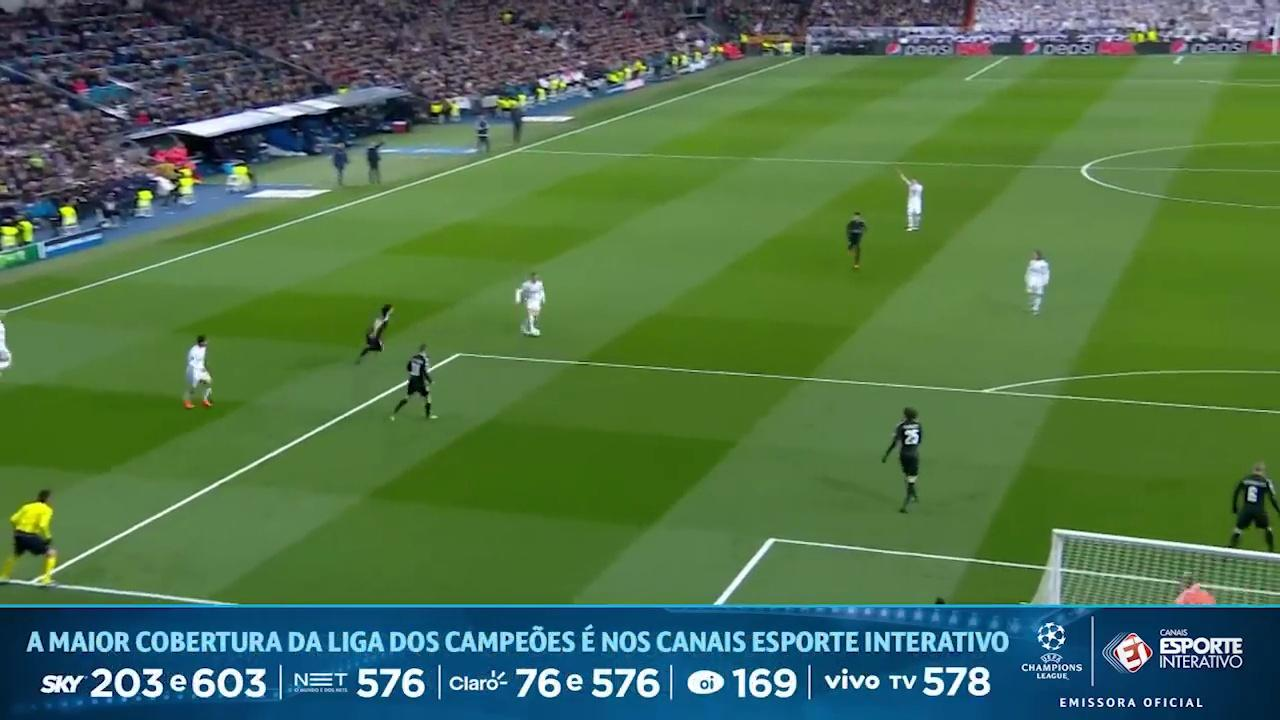player: (1229, 463, 1279, 551), (882, 407, 922, 512), (391, 344, 436, 418), (356, 304, 393, 363), (183, 335, 211, 408), (516, 273, 545, 336), (1024, 250, 1050, 314), (898, 170, 923, 231), (1174, 576, 1215, 604), (846, 212, 866, 269), (0, 316, 11, 372)
referee: (0, 490, 56, 585)
